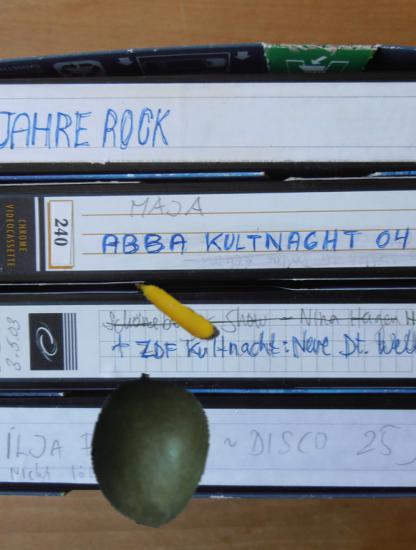Banana: (125, 261, 226, 362)
Mango: (74, 376, 223, 525)
